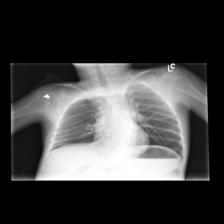normal: (47, 80, 187, 172)
